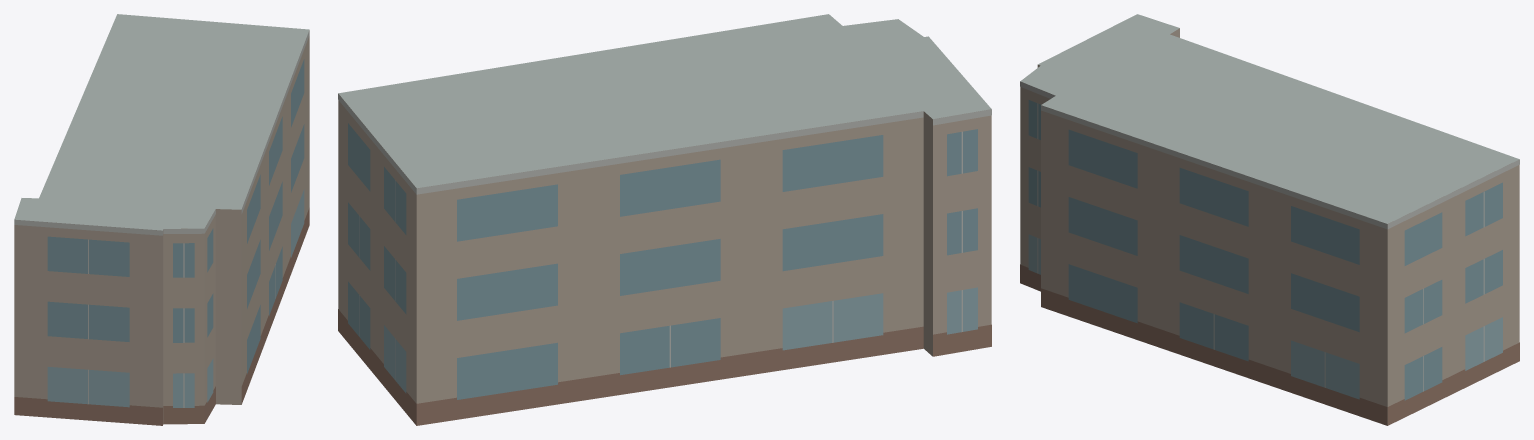
File: survey-upis-32677949.glb
3 renders of one model, left to right at view 1: azimuth 30°, elevation 25°; view 2: azimuth 150°, elevation 25°; view 3: azimuth 270°, elevation 25°, orthographic. The views are drawn at different scales.
Visible parts, largest first — view 1: survey-upis-32677949.tmp; view 2: survey-upis-32677949.tmp; view 3: survey-upis-32677949.tmp.
Part boxes in pixels (x1=…): survey-upis-32677949.tmp: x1=14, y1=14, x2=309, y2=425; survey-upis-32677949.tmp: x1=338, y1=14, x2=991, y2=425; survey-upis-32677949.tmp: x1=1020, y1=14, x2=1519, y2=425.
Size of the model in its own units: 20.42 by 9.15 by 20.53.
